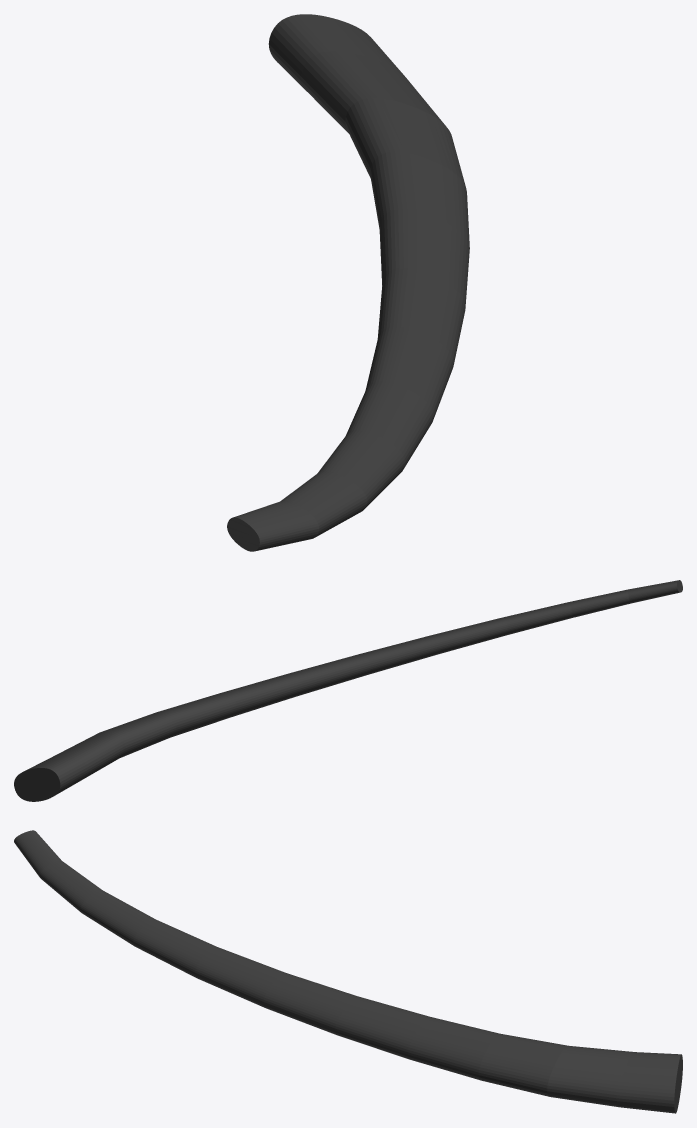
Rendered from N_5_trigeminus_mandibular_tensor_veli_palatini.glb.
The picture shows the model from 3 angles, top to bottom: view 1: azimuth 30°, elevation 25°; view 2: azimuth 150°, elevation 25°; view 3: azimuth 270°, elevation 25°; orthographic projection. The views are drawn at different scales.
Parts seen in each view (by area): view 1: N_5_trigeminus_mandibular_tensor_veli_palatini; view 2: N_5_trigeminus_mandibular_tensor_veli_palatini; view 3: N_5_trigeminus_mandibular_tensor_veli_palatini.
Part boxes in pixels (<box>): N_5_trigeminus_mandibular_tensor_veli_palatini: <box>227,14,469,551</box>; N_5_trigeminus_mandibular_tensor_veli_palatini: <box>14,580,682,801</box>; N_5_trigeminus_mandibular_tensor_veli_palatini: <box>14,830,682,1113</box>.
Bounding box in the file's own units: 0.00982 × 0.0022 × 0.0142.
1 material, 1 textured.
